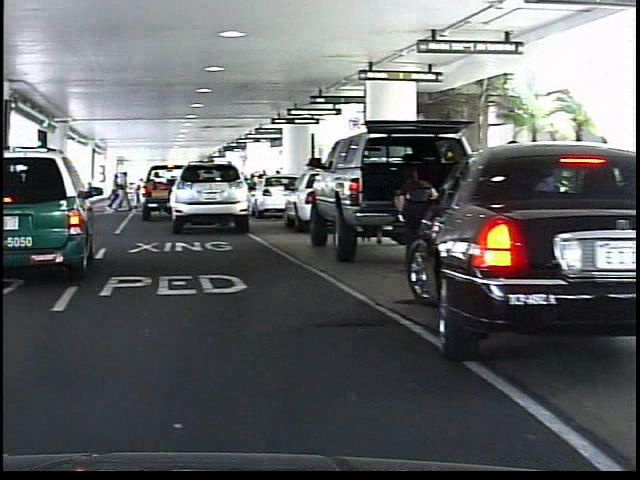person: (389, 155, 441, 267)
